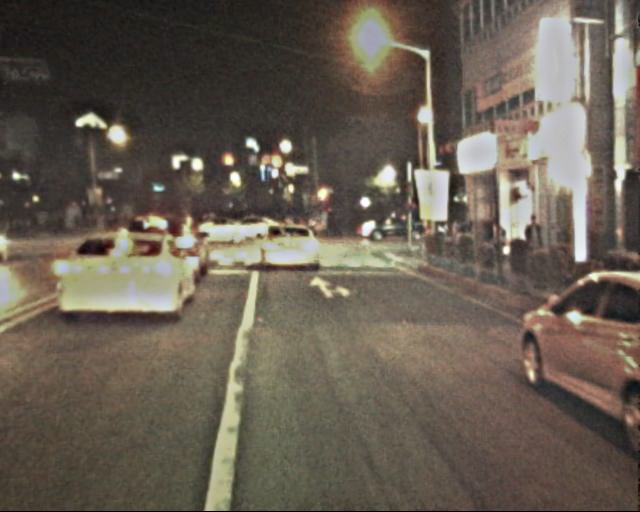person: (35, 202, 122, 233), (520, 214, 548, 282), (485, 215, 508, 270)
